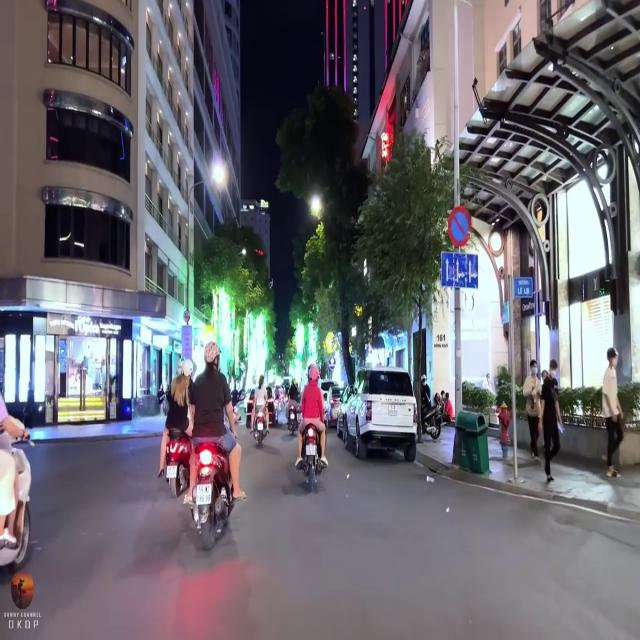bien_trang: (194, 483, 213, 508)
